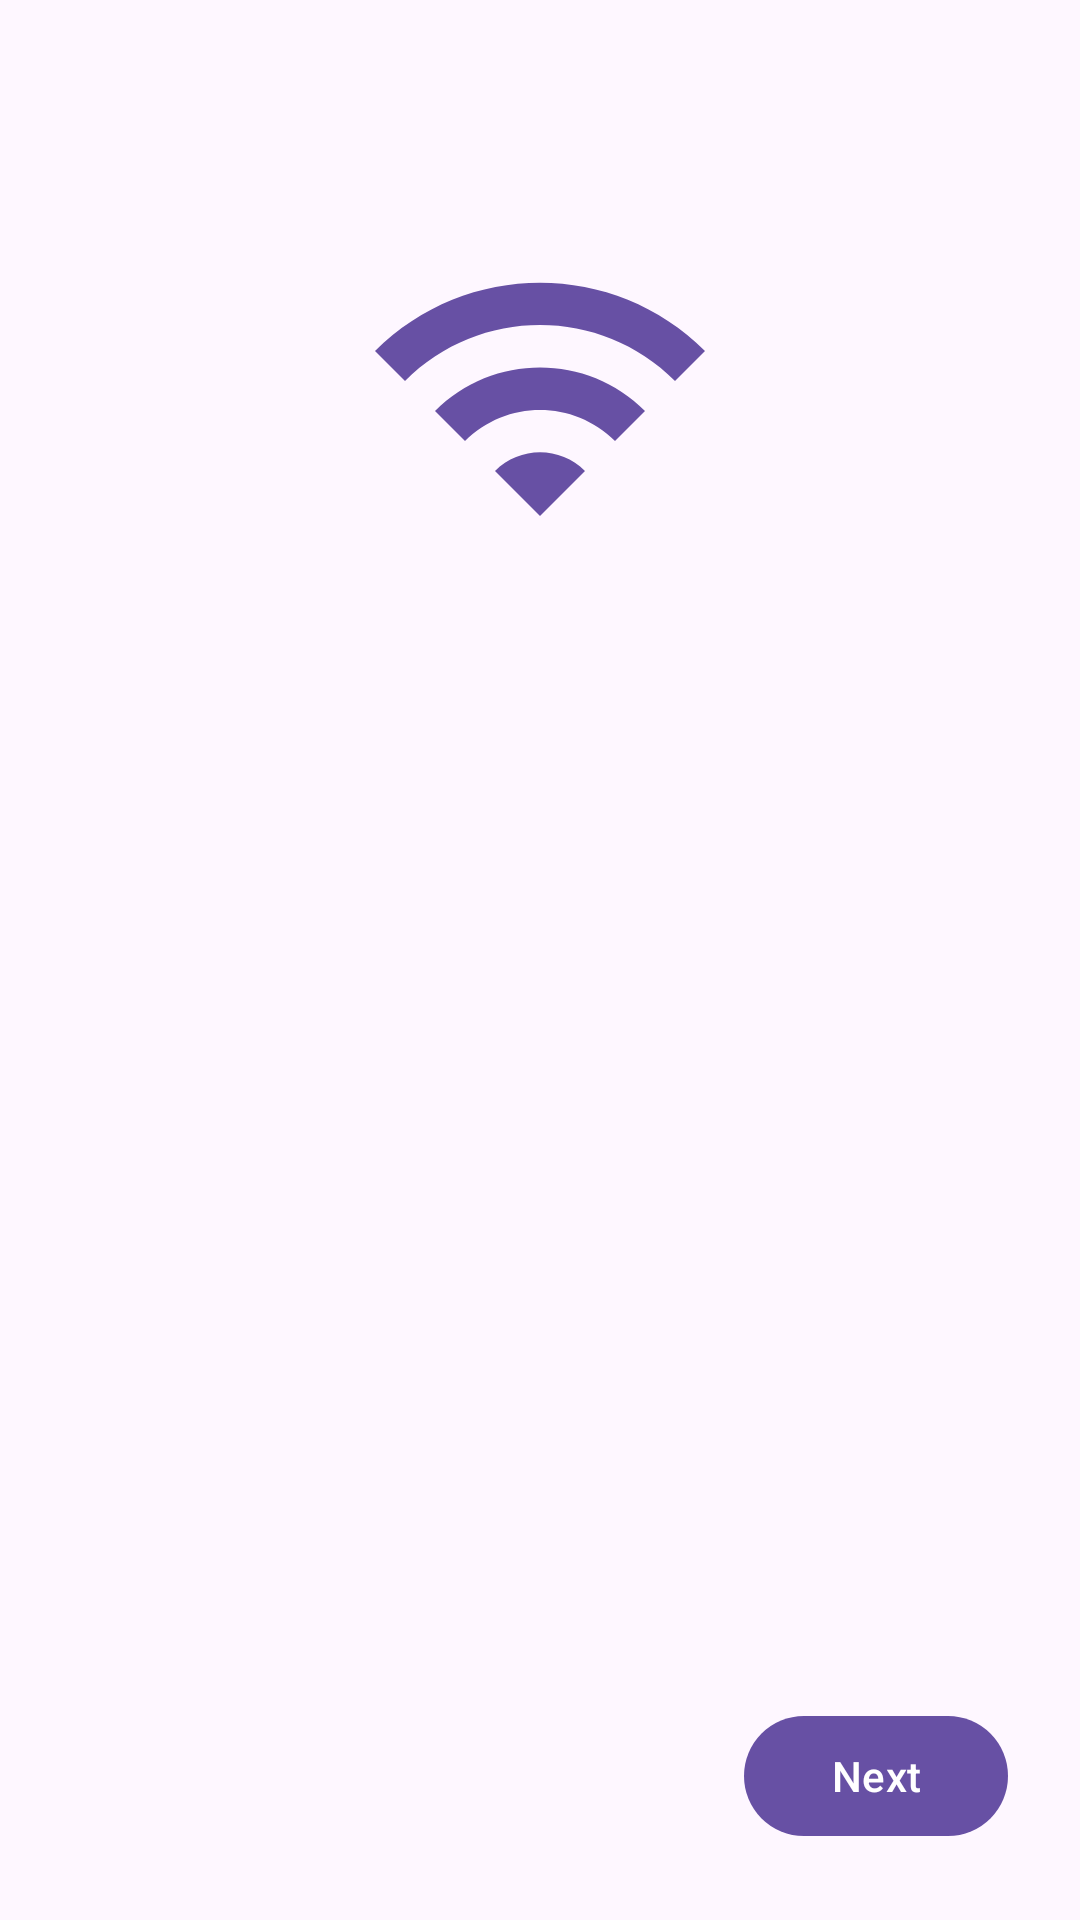

Icon bounding boxes for this 1080w x 1920h phone screenshot, format (x1, y1, x2, y2):
wifi: (375, 282, 705, 516)
